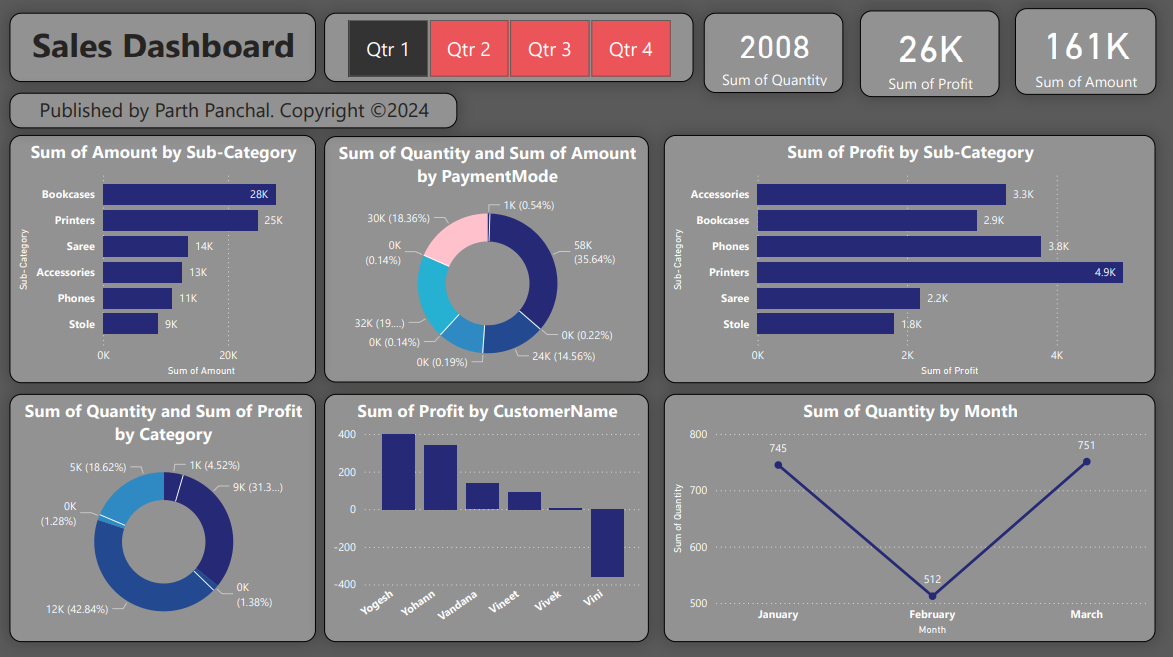

This screenshot's page, from the dashboard's own definition file:
{"tool":"powerbi","page":{"name":"Page 1","canvas":[1280,720],"ordinal":0},"visuals":[{"type":"textbox","box":[9.4,12.1,336.3,76.7],"z":0},{"type":"lineChart","fields":{"Category":["Orders.Order Date.Variation.Date Hierarchy.Month"],"Y":["Details.Quantity"]},"box":[727.7,431.8,539.4,271.7],"z":1000},{"type":"barChart","fields":{"Y":["Details.Profit"],"Category":["Details.Sub-Category","Orders.Order Date.Variation.Date Hierarchy.Year","Orders.Order Date.Variation.Date Hierarchy.Quarter","Orders.Order Date.Variation.Date Hierarchy.Month","Orders.Order Date.Variation.Date Hierarchy.Day"]},"box":[727.7,148,539.4,271.7],"z":2000},{"type":"donutChart","fields":{"Y":["Details.Quantity","Details.Profit"],"Category":["Details.Category"]},"box":[9.4,431.8,336.3,271.7],"z":3000},{"type":"donutChart","fields":{"Y":["Details.Quantity","Details.Amount"],"Category":["Details.PaymentMode"]},"box":[355.1,149.3,356.5,270.4],"z":4000},{"type":"card","fields":{"Values":["Details.Amount"]},"box":[1112.4,8.1,154.7,95.5],"z":5000},{"type":"card","fields":{"Values":["Details.Profit"]},"box":[942.9,9.4,153.3,95.5],"z":6000},{"type":"card","fields":{"Values":["Details.Quantity"]},"box":[770.7,12.1,153.3,88.8],"z":7000},{"type":"barChart","fields":{"Y":["Details.Amount"],"Category":["Details.Sub-Category"]},"box":[9.4,148,336.3,271.7],"z":8000},{"type":"lineStackedColumnComboChart","fields":{"Category":["Orders.CustomerName"],"Y":["Details.Profit"]},"box":[355.1,431.8,356.5,271.7],"z":9000},{"type":"slicer","fields":{"Values":["Orders.Order Date.Variation.Date Hierarchy.Quarter"]},"box":[355.1,12.1,404.9,76.7],"z":10000},{"type":"textbox","box":[10,101.2,491.2,38.8],"z":11001}]}

Visuals, with their boxes in screenshot pixels (x1, y1, x2, y2), scaled from the page's 1280x720 canvas onto the 1173x657 screenshot:
textbox: (9,11,317,81)
lineChart - Orders.Order Date.Variation.Date Hierarchy.Month x Details.Quantity: (667,394,1161,642)
barChart - Details.Profit x Details.Sub-Category: (667,135,1161,383)
donutChart - Details.Quantity x Details.Profit: (9,394,317,642)
donutChart - Details.Quantity x Details.Amount: (325,136,652,383)
card - Details.Amount: (1019,7,1161,95)
card - Details.Profit: (864,9,1005,96)
card - Details.Quantity: (706,11,847,92)
barChart - Details.Amount x Details.Sub-Category: (9,135,317,383)
lineStackedColumnComboChart - Orders.CustomerName x Details.Profit: (325,394,652,642)
slicer - Orders.Order Date.Variation.Date Hierarchy.Quarter: (325,11,696,81)
textbox: (9,92,459,128)
